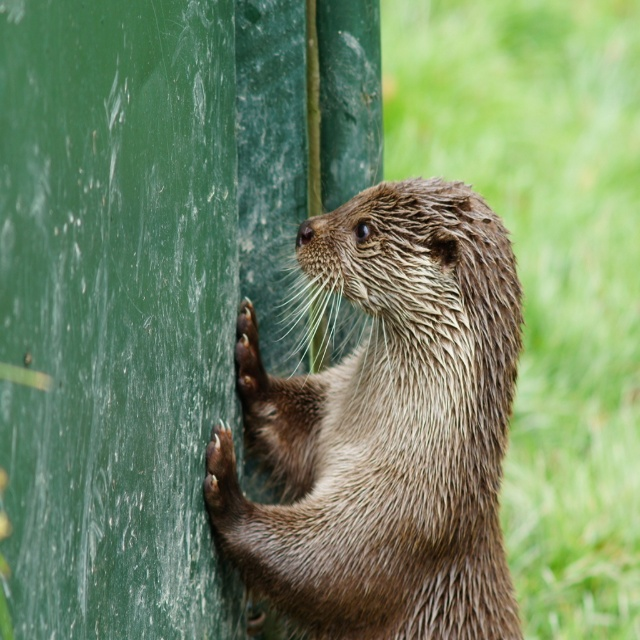Otter: (203, 129, 522, 639)
